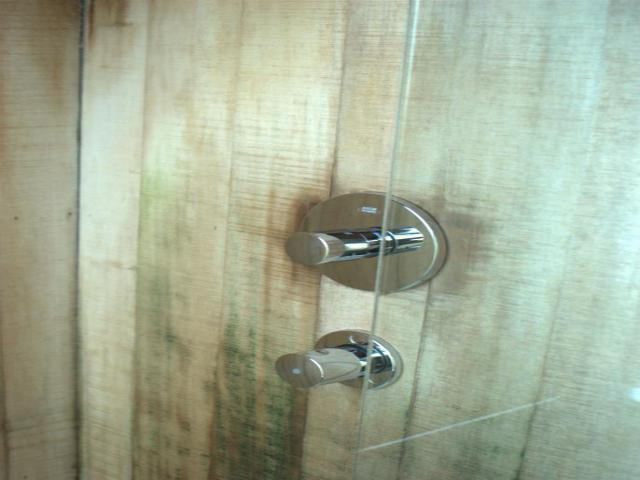Door-handle: (277, 190, 453, 291), (265, 327, 411, 395)
